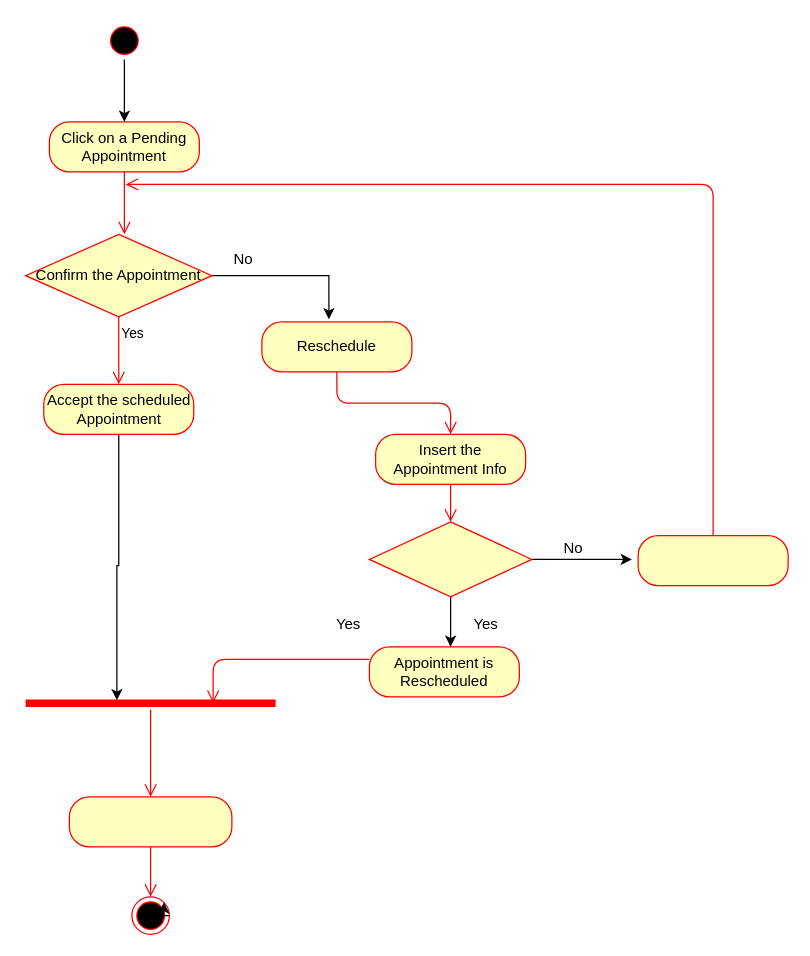
The diagram is 810 pixels wide and 956 high, and some of its shapes have lost their labels. The centre of each missing label's shape, as x and y in pixels:
Back to the Booking Calendar: the point at 150,821
Cancel: the point at 712,560
Save Changes: the point at 450,559
